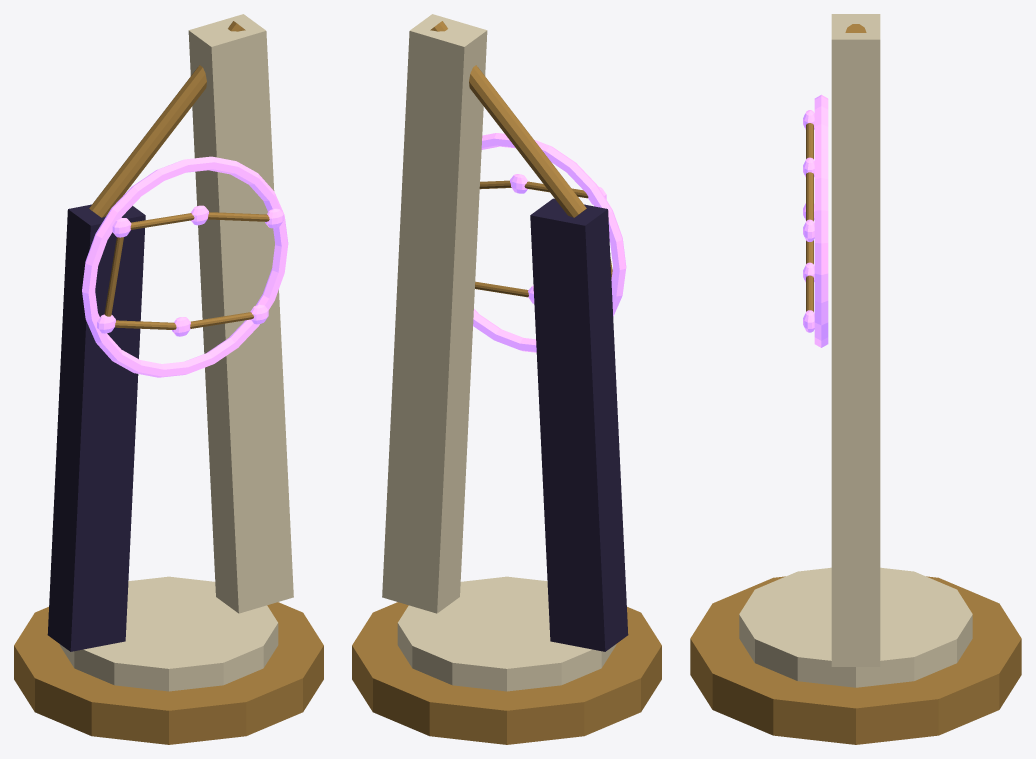
The model's file is runtime.glb.
The picture shows the model from 3 angles, left to right: view 1: azimuth 30°, elevation 25°; view 2: azimuth 150°, elevation 25°; view 3: azimuth 270°, elevation 25°; orthographic projection. The views are drawn at different scales.
Visible parts, largest first — view 1: aetherion-zodiac-stele-v09_right_pier_nocol, aetherion-zodiac-stele-v09_left_pier_nocol, aetherion-zodiac-stele-v09_foot_nocol, aetherion-zodiac-stele-v09_plinth_nocol, aetherion-zodiac-stele-v09_primary_orbit_nocol, aetherion-zodiac-stele-v09_fork_link_nocol, aetherion-zodiac-stele-v09_constellation_link_02_nocol; view 2: aetherion-zodiac-stele-v09_right_pier_nocol, aetherion-zodiac-stele-v09_left_pier_nocol, aetherion-zodiac-stele-v09_foot_nocol, aetherion-zodiac-stele-v09_plinth_nocol, aetherion-zodiac-stele-v09_primary_orbit_nocol, aetherion-zodiac-stele-v09_fork_link_nocol; view 3: aetherion-zodiac-stele-v09_right_pier_nocol, aetherion-zodiac-stele-v09_foot_nocol, aetherion-zodiac-stele-v09_plinth_nocol, aetherion-zodiac-stele-v09_primary_orbit_nocol.
Boxes of the visible parts, x1,y1,x2,y2 form: aetherion-zodiac-stele-v09_right_pier_nocol: (188,14,293,613); aetherion-zodiac-stele-v09_left_pier_nocol: (47,204,145,651); aetherion-zodiac-stele-v09_foot_nocol: (14,602,323,744); aetherion-zodiac-stele-v09_plinth_nocol: (59,576,278,691); aetherion-zodiac-stele-v09_primary_orbit_nocol: (82,156,288,377); aetherion-zodiac-stele-v09_fork_link_nocol: (89,21,245,217); aetherion-zodiac-stele-v09_constellation_link_02_nocol: (104,237,123,316); aetherion-zodiac-stele-v09_right_pier_nocol: (382,14,487,613); aetherion-zodiac-stele-v09_left_pier_nocol: (530,198,628,651); aetherion-zodiac-stele-v09_foot_nocol: (352,602,661,744); aetherion-zodiac-stele-v09_plinth_nocol: (397,576,616,691); aetherion-zodiac-stele-v09_primary_orbit_nocol: (473,133,626,352); aetherion-zodiac-stele-v09_fork_link_nocol: (430,21,586,217); aetherion-zodiac-stele-v09_right_pier_nocol: (831,14,880,666); aetherion-zodiac-stele-v09_foot_nocol: (690,576,1021,744); aetherion-zodiac-stele-v09_plinth_nocol: (739,567,972,687); aetherion-zodiac-stele-v09_primary_orbit_nocol: (814,94,828,347).
Size of the model in its own units: 4.6 by 10.51 by 4.6.
